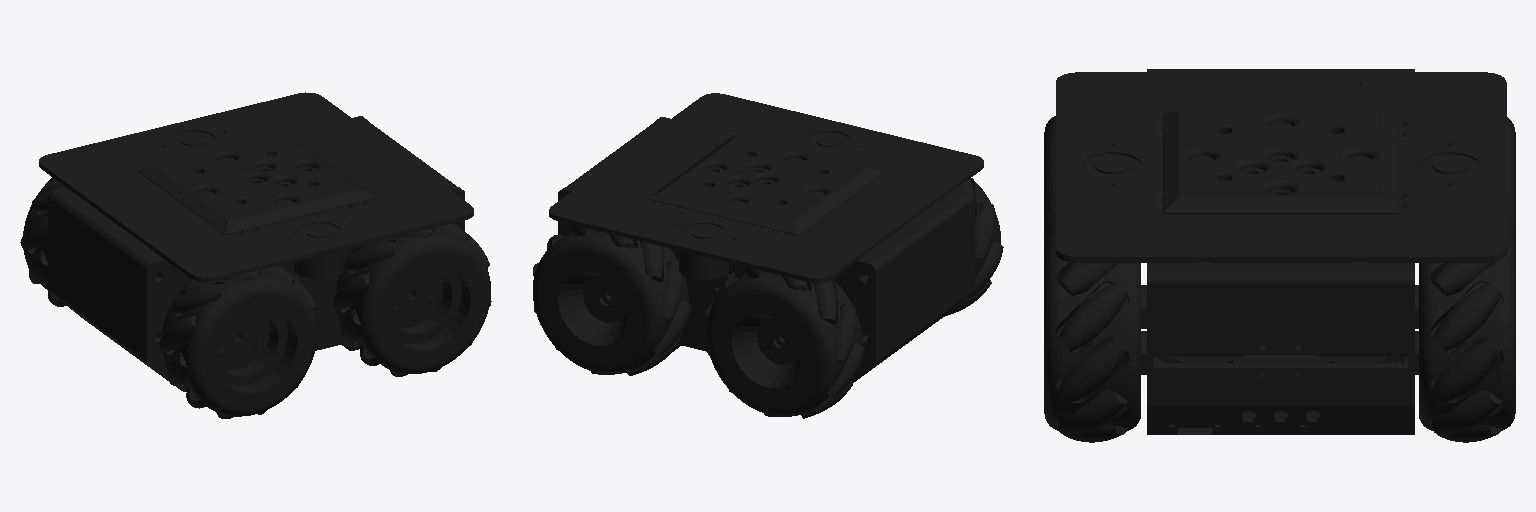
URDF robot description (smartcar):
<?xml version="1.0" ?>
<robot name="smartcar">
  <material name="dark_grey">
    <color rgba="0.2 0.2 0.2 1.0"/>
  </material>
  <material name="light_grey">
    <color rgba="0.4 0.4 0.4 1.0"/>
  </material>
  <material name="red">
    <color rgba="0.8 0.0 0.0 1.0"/>
  </material>
  <material name="white">
    <color rgba="0.9 0.9 0.9 1.0"/>
  </material>
  <material name="yellow">
    <color rgba="0.8 0.8 0.0 1.0"/>
  </material>
  <material name="black">
    <color rgba="0.15 0.15 0.15 1.0"/>
  </material>
  <link name="base_link"/>
  <joint name="base_link_joint" type="fixed">
    <origin rpy="0 0 0" xyz="0 0 0"/>
    <parent link="base_link"/>
    <child link="chassis_link"/>
  </joint>
  <link name="chassis_link">
    <visual>
      <origin rpy="0 0 0" xyz="0 0 0"/>
      <geometry>
        <mesh filename="package://smartcar/meshes/body_link.STL"/>
      </geometry>
      <material name="black"/>
    </visual>
    <collision>
      <origin xyz="0 0 0"/>
      <geometry>
        <mesh filename="package://smartcar/meshes/body_link.STL"/>
      </geometry>
    </collision>
    <inertial>
      <origin rpy="0 0 0" xyz="0 0 -0.025"/>
      <mass value="1"/>
      <inertia ixx="0.025" ixy="0.0" ixz="0.0" iyy="0.025" iyz="0.0" izz="0.0375"/>
    </inertial>
  </link>
  <link name="front_left_wheel_link">
    <visual>
      <origin rpy="0 0 1.5707963267948966" xyz="0 0.006 0"/>
      <geometry>
        <mesh filename="package://smartcar/meshes/wheel.STL"/>
      </geometry>
      <material name="black"/>
    </visual>
    <collision>
      <origin rpy="1.5707963267948966 0 0" xyz="0 0 0"/>
      <geometry>
        <cylinder length="0.04" radius="0.043"/>
      </geometry>
    </collision>
    <inertial>
      <origin rpy="0 0 0" xyz="0 0 0"/>
      <mass value="2.3"/>
      <inertia ixx="3.3212e-3" ixy="0" ixz="0" iyy="6.6424e-3" iyz="0" izz="3.3212e-3"/>
    </inertial>
  </link>
  <joint name="front_left_wheel" type="continuous">
    <parent link="base_link"/>
    <child link="front_left_wheel_link"/>
    <origin rpy="0 0 0" xyz="0.06 0.083 0"/>
    <axis xyz="0 1 0"/>
  </joint>
  <transmission name="front_wheel_trans">
    <type>transmission_interface/SimpleTransmission</type>
    <joint name="front_left_wheel">
      <hardwareInterface>hardware_interface/VelocityJointInterface</hardwareInterface>
    </joint>
    <actuator name="front_left_actuator">
      <mechanicalReduction>1</mechanicalReduction>
    </actuator>
  </transmission>
  <link name="rear_left_wheel_link">
    <visual>
      <origin rpy="0 0 1.5707963267948966" xyz="0 0.006 0"/>
      <geometry>
        <mesh filename="package://smartcar/meshes/wheel.STL"/>
      </geometry>
      <material name="black"/>
    </visual>
    <collision>
      <origin rpy="1.5707963267948966 0 0" xyz="0 0 0"/>
      <geometry>
        <cylinder length="0.04" radius="0.043"/>
      </geometry>
    </collision>
    <inertial>
      <origin rpy="0 0 0" xyz="0 0 0"/>
      <mass value="2.3"/>
      <inertia ixx="3.3212e-3" ixy="0" ixz="0" iyy="6.6424e-3" iyz="0" izz="3.3212e-3"/>
    </inertial>
  </link>
  <joint name="rear_left_wheel" type="continuous">
    <parent link="base_link"/>
    <child link="rear_left_wheel_link"/>
    <origin rpy="0 0 0" xyz="-0.06 0.083 0"/>
    <axis xyz="0 1 0"/>
  </joint>
  <transmission name="rear_wheel_trans">
    <type>transmission_interface/SimpleTransmission</type>
    <joint name="rear_left_wheel">
      <hardwareInterface>hardware_interface/VelocityJointInterface</hardwareInterface>
    </joint>
    <actuator name="rear_left_actuator">
      <mechanicalReduction>1</mechanicalReduction>
    </actuator>
  </transmission>
  <link name="front_right_wheel_link">
    <visual>
      <origin rpy="0 0 1.5707963267948966" xyz="0 0.006 0"/>
      <geometry>
        <mesh filename="package://smartcar/meshes/wheel.STL"/>
      </geometry>
      <material name="black"/>
    </visual>
    <collision>
      <origin rpy="1.5707963267948966 0 0" xyz="0 0 0"/>
      <geometry>
        <cylinder length="0.04" radius="0.043"/>
      </geometry>
    </collision>
    <inertial>
      <origin rpy="0 0 0" xyz="0 0 0"/>
      <mass value="2.3"/>
      <inertia ixx="3.3212e-3" ixy="0" ixz="0" iyy="6.6424e-3" iyz="0" izz="3.3212e-3"/>
    </inertial>
  </link>
  <joint name="front_right_wheel" type="continuous">
    <parent link="base_link"/>
    <child link="front_right_wheel_link"/>
    <origin rpy="0 0 0" xyz="0.06 -0.083 0"/>
    <axis xyz="0 1 0"/>
  </joint>
  <transmission name="front_wheel_trans">
    <type>transmission_interface/SimpleTransmission</type>
    <joint name="front_right_wheel">
      <hardwareInterface>hardware_interface/VelocityJointInterface</hardwareInterface>
    </joint>
    <actuator name="front_right_actuator">
      <mechanicalReduction>1</mechanicalReduction>
    </actuator>
  </transmission>
  <link name="rear_right_wheel_link">
    <visual>
      <origin rpy="0 0 1.5707963267948966" xyz="0 0.006 0"/>
      <geometry>
        <mesh filename="package://smartcar/meshes/wheel.STL"/>
      </geometry>
      <material name="black"/>
    </visual>
    <collision>
      <origin rpy="1.5707963267948966 0 0" xyz="0 0 0"/>
      <geometry>
        <cylinder length="0.04" radius="0.043"/>
      </geometry>
    </collision>
    <inertial>
      <origin rpy="0 0 0" xyz="0 0 0"/>
      <mass value="2.3"/>
      <inertia ixx="3.3212e-3" ixy="0" ixz="0" iyy="6.6424e-3" iyz="0" izz="3.3212e-3"/>
    </inertial>
  </link>
  <joint name="rear_right_wheel" type="continuous">
    <parent link="base_link"/>
    <child link="rear_right_wheel_link"/>
    <origin rpy="0 0 0" xyz="-0.06 -0.083 0"/>
    <axis xyz="0 1 0"/>
  </joint>
  <transmission name="rear_wheel_trans">
    <type>transmission_interface/SimpleTransmission</type>
    <joint name="rear_right_wheel">
      <hardwareInterface>hardware_interface/VelocityJointInterface</hardwareInterface>
    </joint>
    <actuator name="rear_right_actuator">
      <mechanicalReduction>1</mechanicalReduction>
    </actuator>
  </transmission>
  <joint name="board_loading_joint" type="prismatic">
    <origin rpy="0 0 0" xyz="0 0 0"/>
    <parent link="chassis_link"/>
    <child link="board_link"/>
    <axis xyz="0 0 1"/>
    <limit effort="10000" lower="0.0" upper="0.045" velocity="0.05"/>
  </joint>
  <transmission name="board_loading_trans">
    <type>transmission_interface/SimpleTransmission</type>
    <joint name="board_loading_joint">
      <hardwareInterface>hardware_interface/PositionJointInterface</hardwareInterface>
    </joint>
    <actuator name="board_loading_actuator">
      <hardwareInterface>hardware_interface/PositionJointInterface</hardwareInterface>
      <mechanicalReduction>1</mechanicalReduction>
    </actuator>
  </transmission>
  <link name="board_link">
    <visual>
      <origin rpy="0 0 0" xyz="0 0 0.053"/>
      <geometry>
        <mesh filename="package://smartcar/meshes/board.STL"/>
      </geometry>
      <material name="black"/>
    </visual>
    <collision>
      <origin rpy="0 0 0" xyz="0 0 0.053"/>
      <geometry>
        <box size="0.194 0.2 0.003"/>
      </geometry>
    </collision>
    <inertial>
      <origin rpy="0 0 0" xyz="0 0 0.053"/>
      <mass value="0.1"/>
      <inertia ixx="0.001" ixy="0.0" ixz="0.0" iyy="0.001" iyz="0.0" izz="0.002"/>
    </inertial>
  </link>
</robot>

--- What the picture shows (computed from the rendered views, not written in the file) ---
3 views of the same robot in one strip: view 1: azimuth 30°, elevation 25°; view 2: azimuth 150°, elevation 25°; view 3: azimuth 270°, elevation 25° (orthographic).
Robot: smartcar — 7 links, 6 joints (4 continuous, 1 prismatic, 1 fixed); root link base_link; default pose: every joint at zero.
Links seen in each view (by area): view 1: board_link, chassis_link, front_right_wheel_link, rear_right_wheel_link, rear_left_wheel_link; view 2: board_link, rear_left_wheel_link, front_left_wheel_link, chassis_link, rear_right_wheel_link; view 3: board_link, chassis_link, front_right_wheel_link, front_left_wheel_link, rear_right_wheel_link, rear_left_wheel_link.
Boxes of the visible links, left/top/right/bottom form: board_link: left=39, top=92, right=473, bottom=281; chassis_link: left=48, top=116, right=464, bottom=391; front_right_wheel_link: left=333, top=223, right=491, bottom=376; rear_right_wheel_link: left=159, top=266, right=317, bottom=418; rear_left_wheel_link: left=20, top=177, right=66, bottom=306; board_link: left=549, top=93, right=983, bottom=282; rear_left_wheel_link: left=706, top=267, right=864, bottom=418; front_left_wheel_link: left=533, top=225, right=690, bottom=375; chassis_link: left=558, top=117, right=974, bottom=382; rear_right_wheel_link: left=944, top=178, right=1003, bottom=316; board_link: left=1056, top=72, right=1506, bottom=362; chassis_link: left=1141, top=69, right=1418, bottom=434; front_right_wheel_link: left=1044, top=230, right=1140, bottom=442; front_left_wheel_link: left=1419, top=232, right=1515, bottom=442; rear_right_wheel_link: left=1044, top=116, right=1055, bottom=245; rear_left_wheel_link: left=1507, top=117, right=1515, bottom=245.
Bounding box of the posed robot: 0.22 × 0.209 × 0.1076 m (x, y, z).
6 mesh visuals loaded from 3 distinct referenced files (3 binary STL).